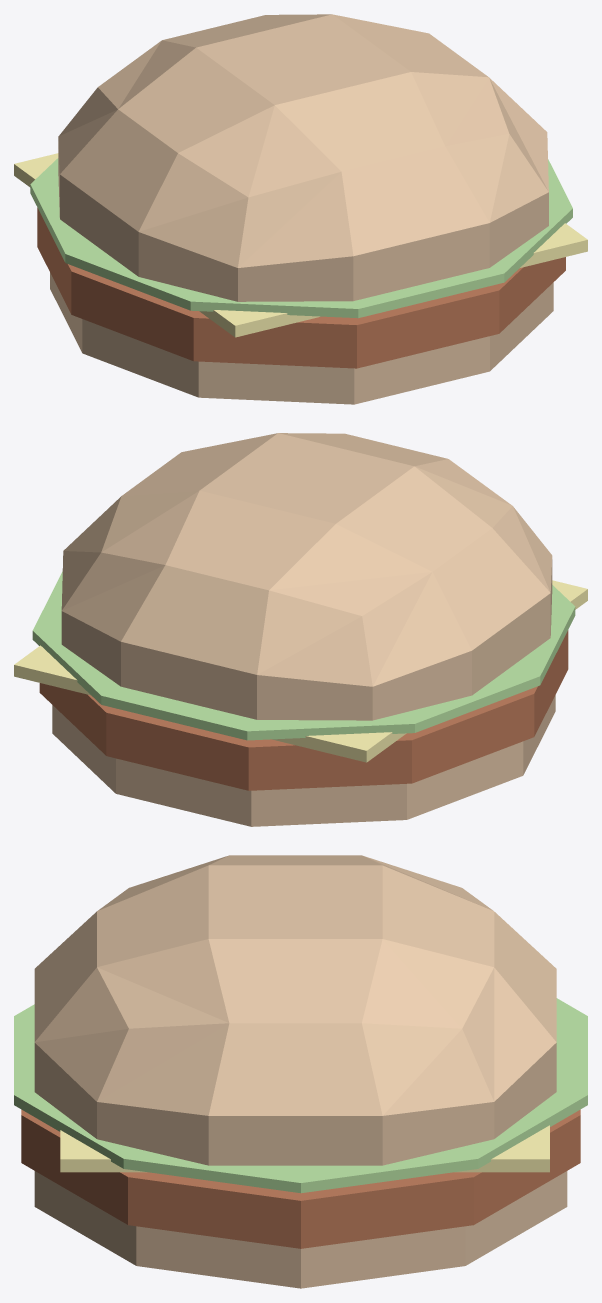
Rendered from food1.fbx.
3 views of the same model, one above another, from view 1: azimuth 30°, elevation 25°; view 2: azimuth 150°, elevation 25°; view 3: azimuth 270°, elevation 25° (orthographic). The views are drawn at different scales.
Visible parts, largest first — view 1: Cube_4; view 2: Cube_4; view 3: Cube_4.
Part boxes in pixels (box(x1,y1,x2,y2)): Cube_4: box(14, 14, 587, 404); Cube_4: box(14, 433, 587, 826); Cube_4: box(14, 855, 587, 1288).
Bounding box in the file's own units: 16.11 × 7.89 × 15.32.
